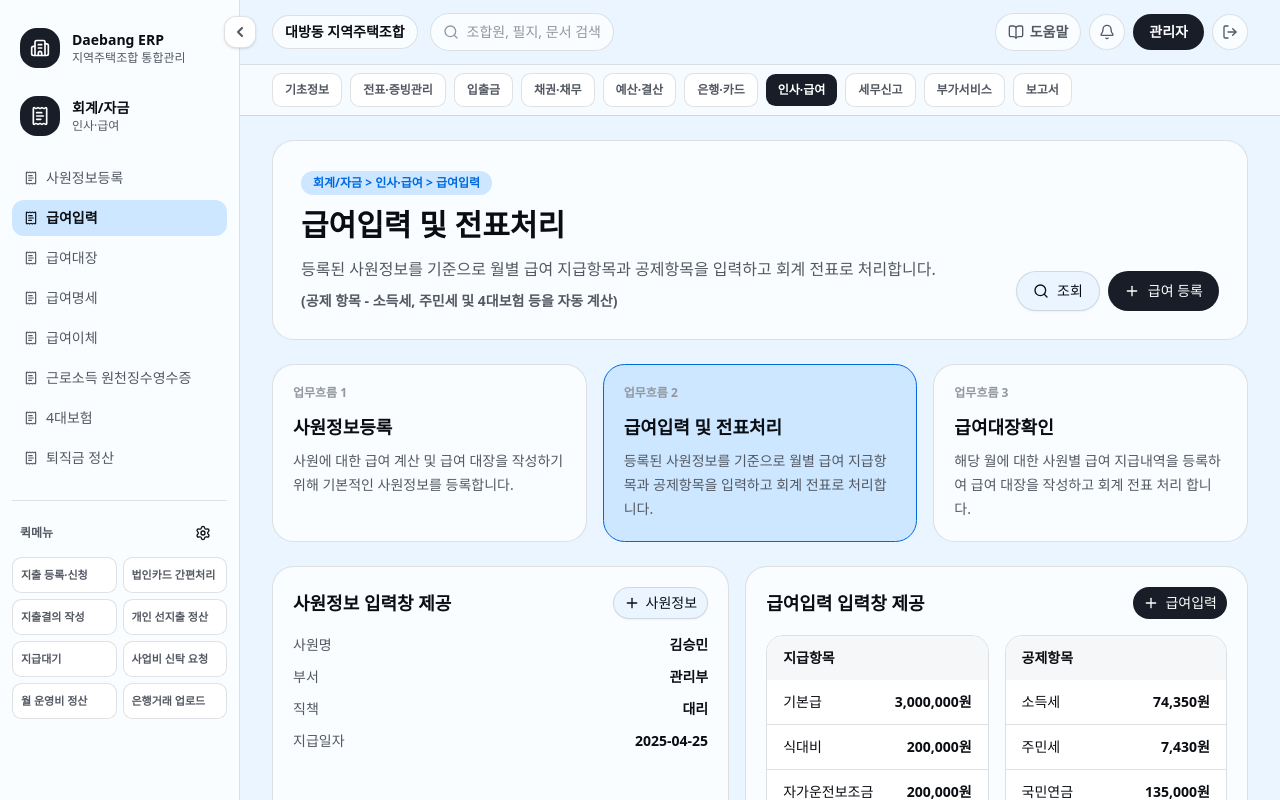
Test: HrPayrollPage › renders payroll entry and opens the payroll entry form
The image size is (1280, 800).
Expected: the heading "급여입력 및 전표처리" is shown, [301,204,565,245]
Expected: the text "회계/자금 > 인사·급여 > 급여입력" is shown, [301,171,492,195]
Click the button "급여입력" at (1180, 603), box [1134,587,1227,619]
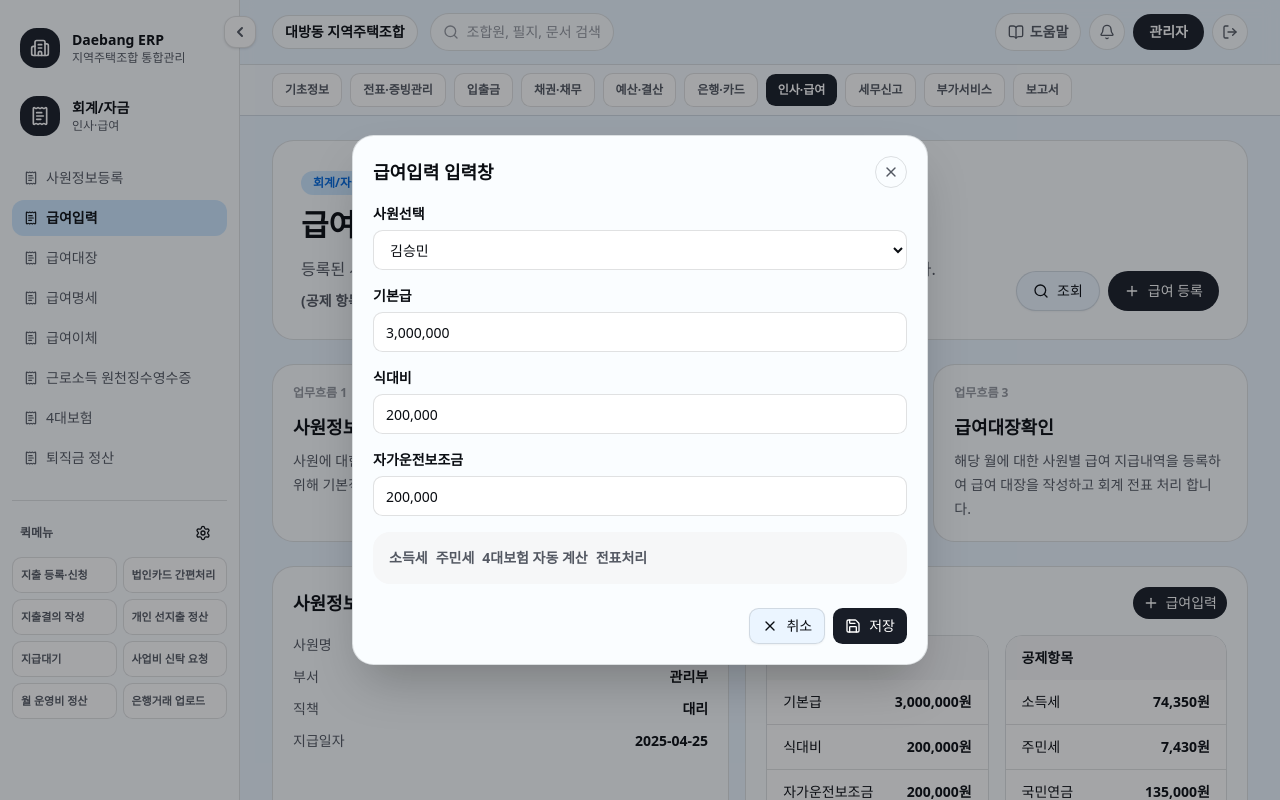
Result: the dropdown labelled "사원선택" is shown at [373,230,907,270]
Result: the field labelled "기본급" is shown at [373,312,907,352]
Result: the text "전표처리" is shown at [596,548,647,568]
